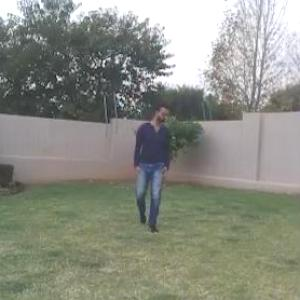follow: (131, 96, 170, 231)
